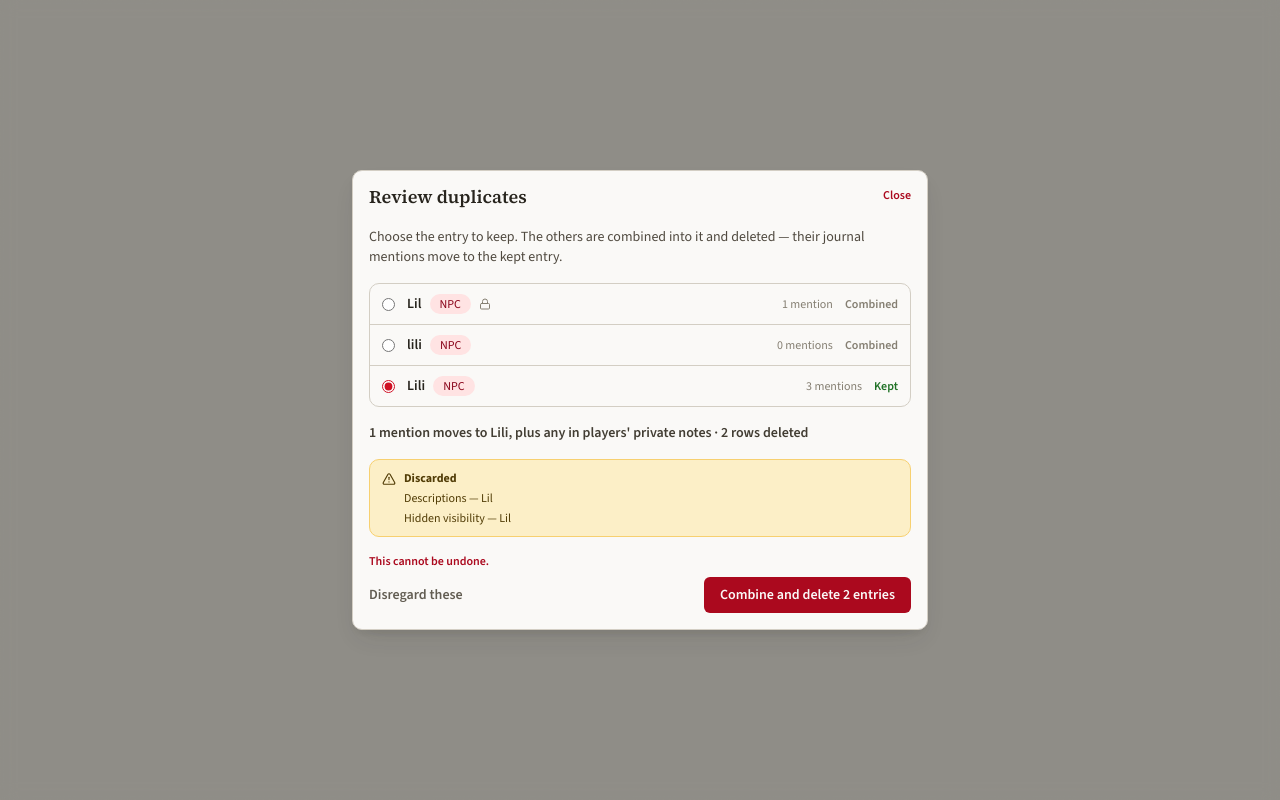
Test: ReviewDuplicatesModal › re-picking the survivor updates the summary line and Kept/Combined labels
The width and height of the screenshot is (1280, 800).
Expected: the list item "Hidden visibility — Lil" is shown, [404,510,511,526]
Click the radio button labelled "Lil NPC 1 mention Combined".
click(388, 304)  # box [382,298,395,310]
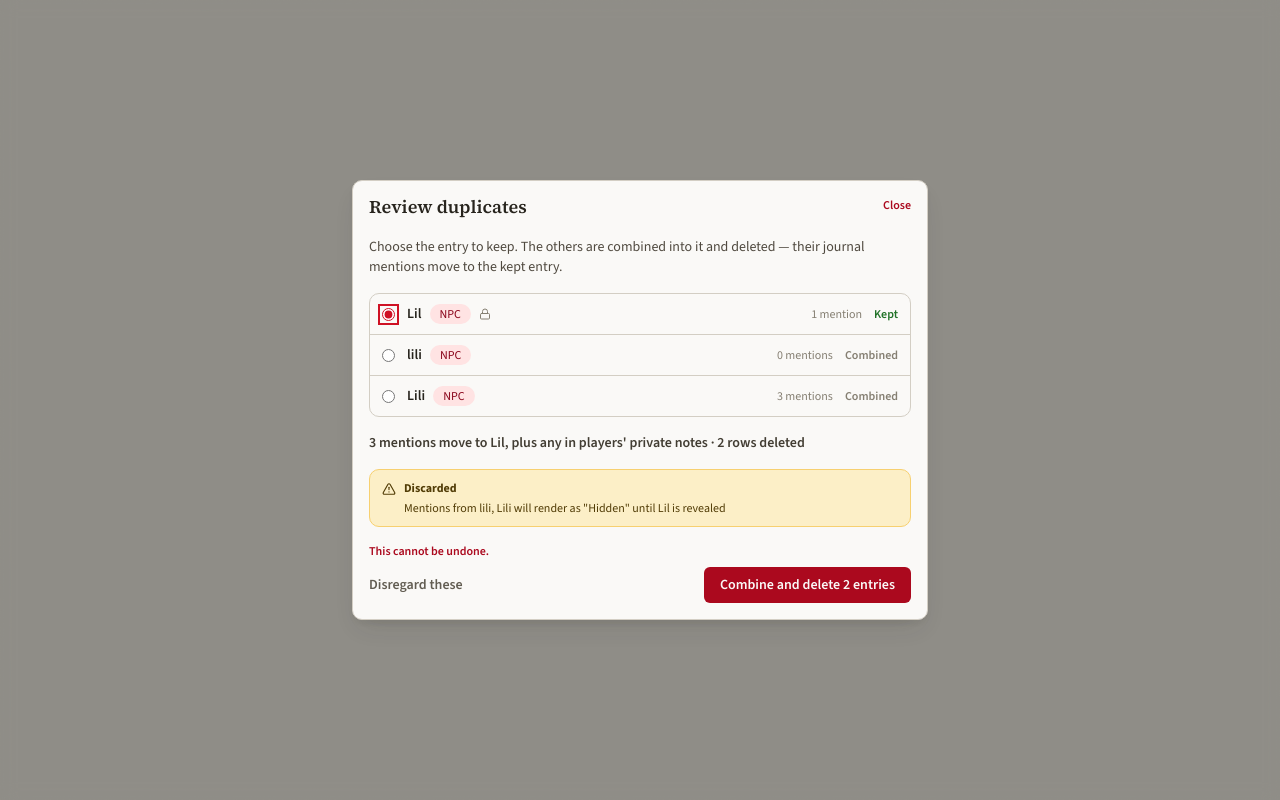
Expected: the text "3 mentions move to Lil, plus any in players' private notes · 2 rows deleted" is shown, [369,433,805,452]
